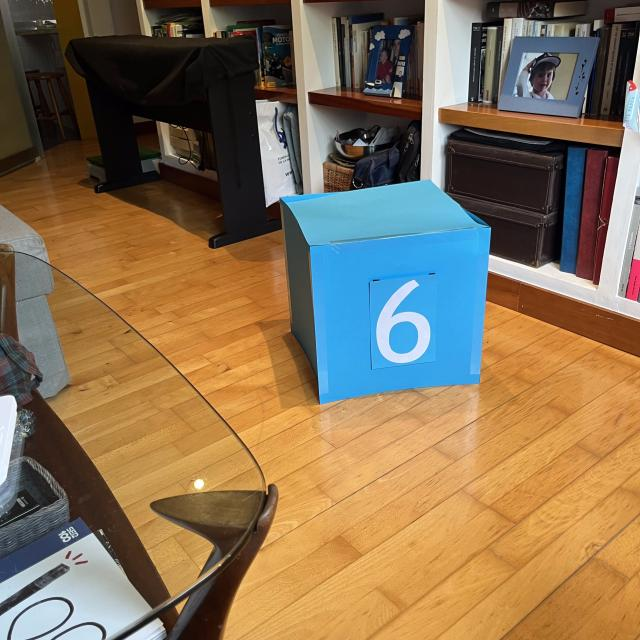box: (275, 176, 494, 405)
